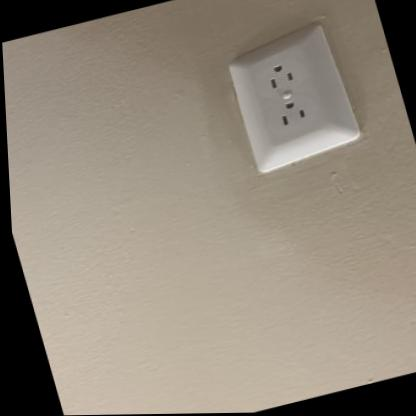OUTLET: (218, 16, 371, 178)
